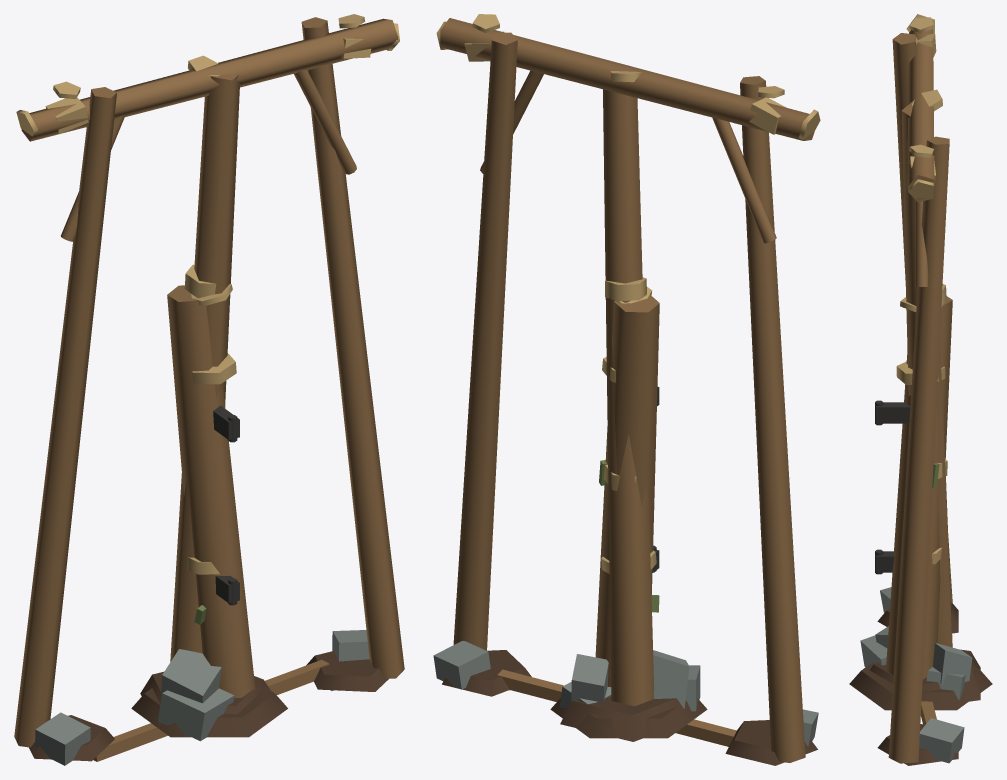
Rendered from Fence_Kit-v1.0.0.glb.
3 renders of one model, left to right at view 1: azimuth 30°, elevation 25°; view 2: azimuth 150°, elevation 25°; view 3: azimuth 270°, elevation 25°, orthographic. The views are drawn at different scales.
Visible parts, largest first — view 1: Mesh_Gate_Arch_Runtime, Mesh_Gate_Post_Runtime, Mesh_Fence_Post_Runtime, Mesh_Fence_Rail_Runtime; view 2: Mesh_Gate_Arch_Runtime, Mesh_Fence_Post_Runtime, Mesh_Gate_Post_Runtime, Mesh_Fence_Rail_Runtime; view 3: Mesh_Gate_Arch_Runtime, Mesh_Gate_Post_Runtime, Mesh_Fence_Post_Runtime, Mesh_Fence_Rail_Runtime.
Boxes of the visible parts, box(x1,y1,x2,y2) form: Mesh_Gate_Arch_Runtime: box(14, 14, 404, 765); Mesh_Gate_Post_Runtime: box(131, 284, 287, 741); Mesh_Fence_Post_Runtime: box(140, 55, 269, 728); Mesh_Fence_Rail_Runtime: box(93, 659, 333, 761); Mesh_Gate_Arch_Runtime: box(433, 14, 820, 765); Mesh_Fence_Post_Runtime: box(560, 71, 695, 741); Mesh_Gate_Post_Runtime: box(550, 287, 707, 738); Mesh_Fence_Rail_Runtime: box(497, 669, 736, 746); Mesh_Gate_Arch_Runtime: box(877, 14, 964, 765); Mesh_Gate_Post_Runtime: box(849, 296, 992, 710); Mesh_Fence_Post_Runtime: box(870, 89, 980, 701); Mesh_Fence_Rail_Runtime: box(921, 701, 936, 724).
Size of the model in its own units: 1.32 by 2.27 by 0.48.
1 material, 1 textured.
